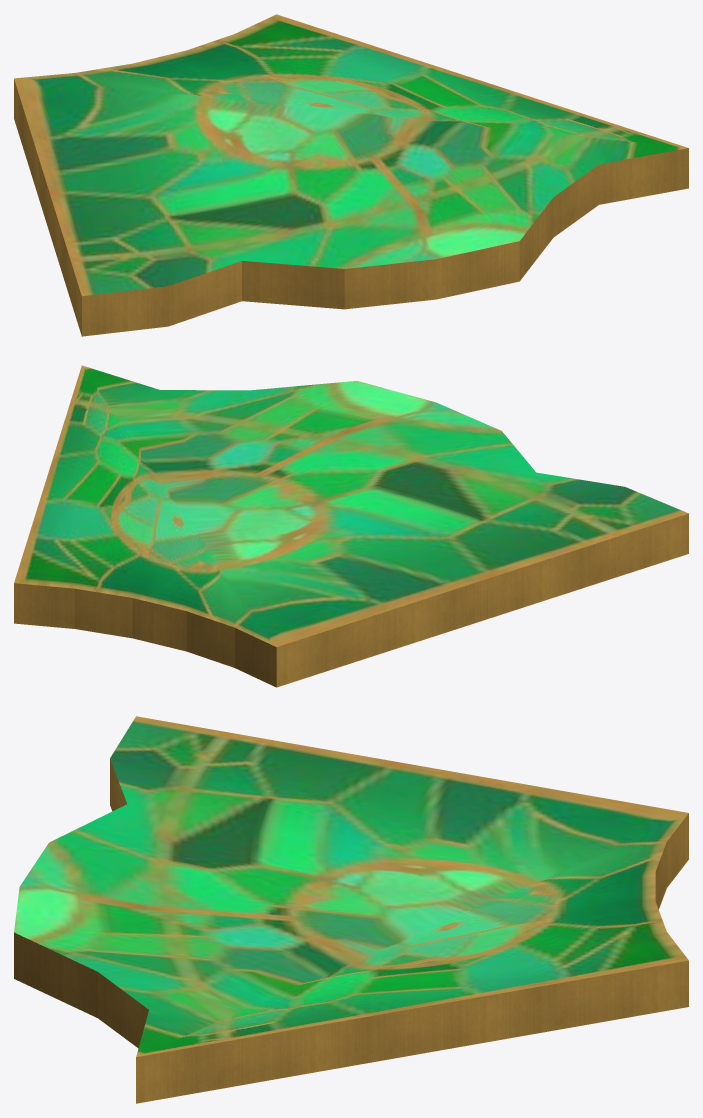
Rendered from lb_chunk_3_0.glb.
The picture shows the model from 3 angles, top to bottom: view 1: azimuth 30°, elevation 25°; view 2: azimuth 150°, elevation 25°; view 3: azimuth 270°, elevation 25°; orthographic projection. The views are drawn at different scales.
Parts seen in each view (by area): view 1: lb_chunk_3_0; view 2: lb_chunk_3_0; view 3: lb_chunk_3_0.
Boxes of the visible parts, box(x1,y1,x2,y2) form: lb_chunk_3_0: box(14, 14, 688, 336); lb_chunk_3_0: box(14, 365, 688, 687); lb_chunk_3_0: box(14, 716, 688, 1103).
Bounding box in the file's own units: 5.66 × 0.36 × 4.74.
2 materials, 2 textured.
